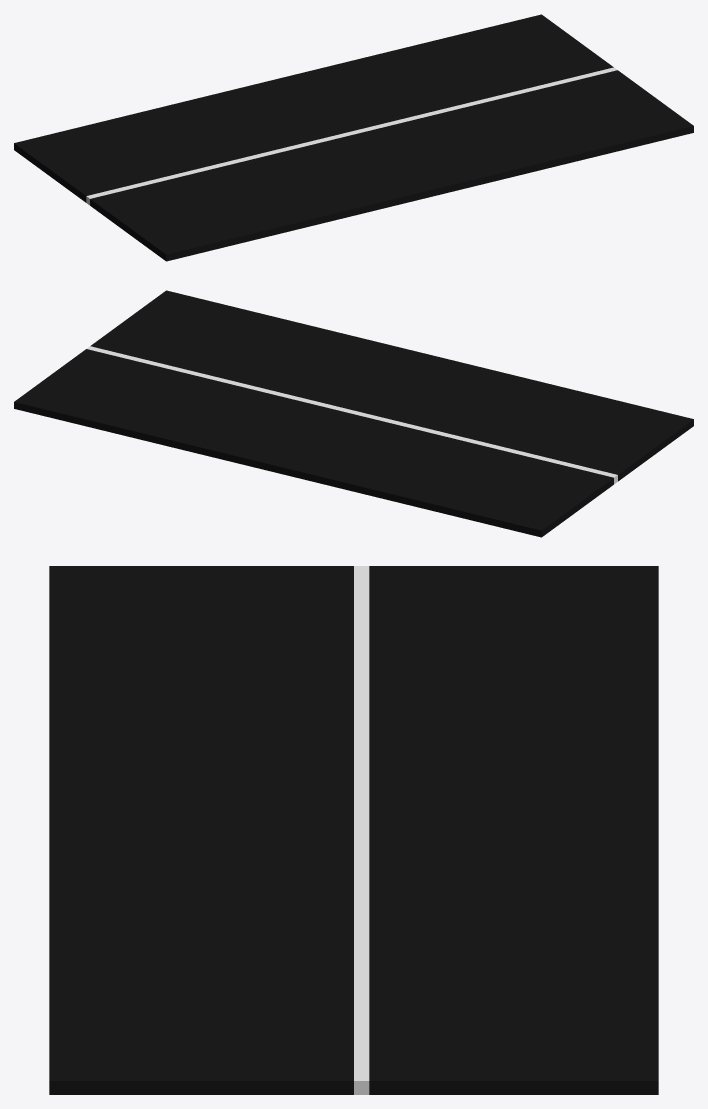
File: Road.obj
3 renders of one model, top to bottom at view 1: azimuth 30°, elevation 25°; view 2: azimuth 150°, elevation 25°; view 3: azimuth 270°, elevation 25°, orthographic. The views are drawn at different scales.
Parts seen in each view (by area): view 1: Road; view 2: Road; view 3: Road.
Part boxes in pixels (x1,y1,x2,y2): Road: (14,14,693,261); Road: (14,290,693,537); Road: (49,566,658,1094).
Bounding box in the file's own units: 80 × 1 × 40.
Materials: 1 (1 with a texture image).
